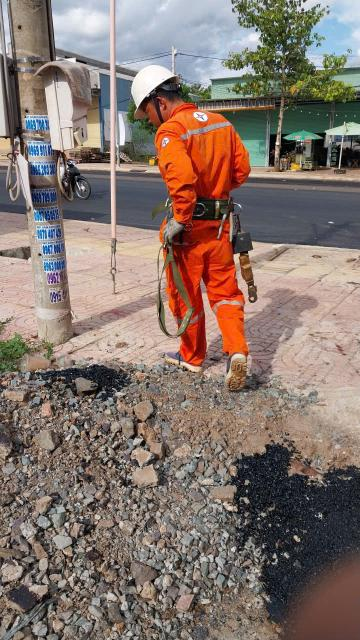gloves: (161, 215, 185, 242)
harness: (162, 190, 247, 228)
helmet: (123, 63, 189, 112)
shoes: (218, 349, 254, 395), (158, 345, 204, 377)
